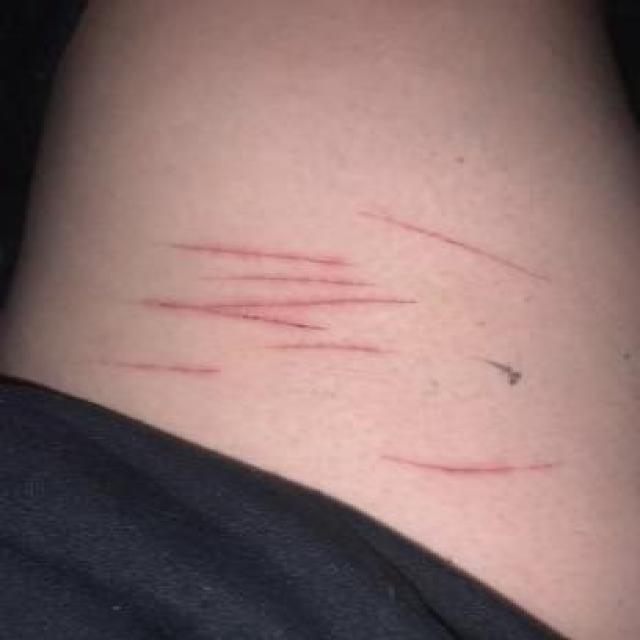Cut: (142, 228, 415, 338), (332, 232, 592, 259), (376, 448, 567, 480), (63, 350, 232, 384), (248, 340, 420, 364)
